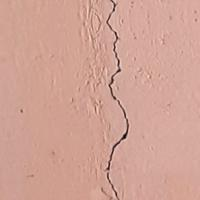crack: (79, 0, 151, 199)
